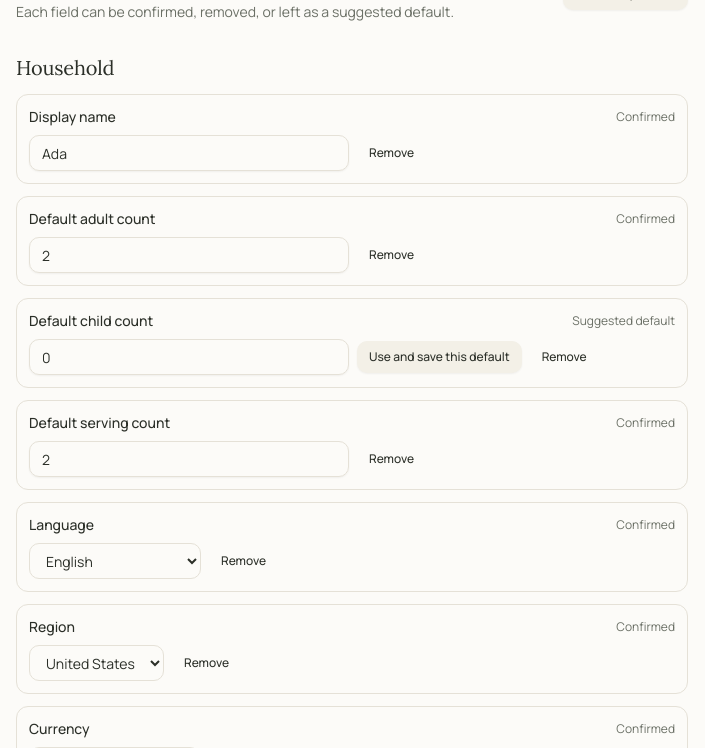
Test: ProfileDataPage › blocks submit when a numeric field is outside the backend's authoritative range
Replace the text in the number field with test id "profile-data-input-defaultServingCount" with "99" at point(189, 459), box [29,441,349,477]
(page scrolled)
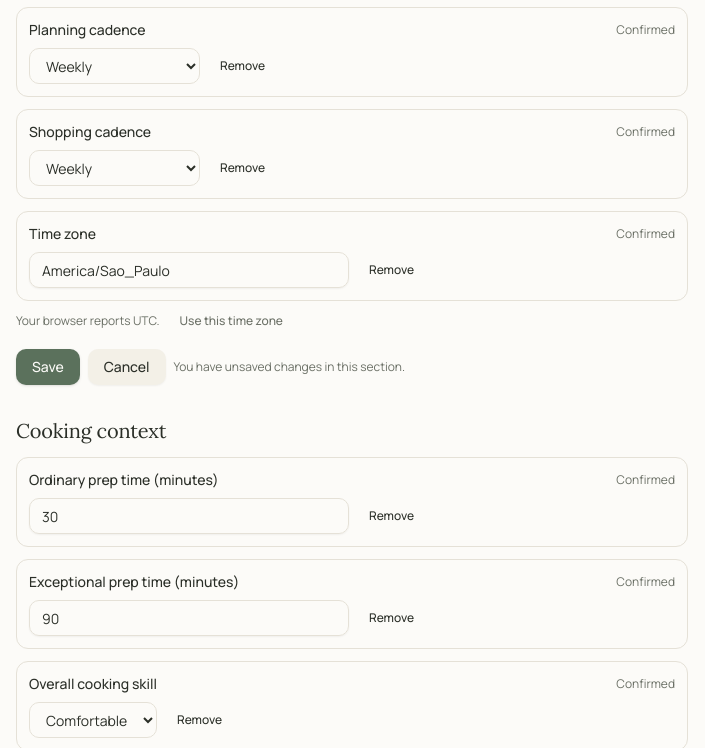
Click the button with test id "profile-data-household-save" at point(48, 367), box [16,349,80,385]
(page scrolled)
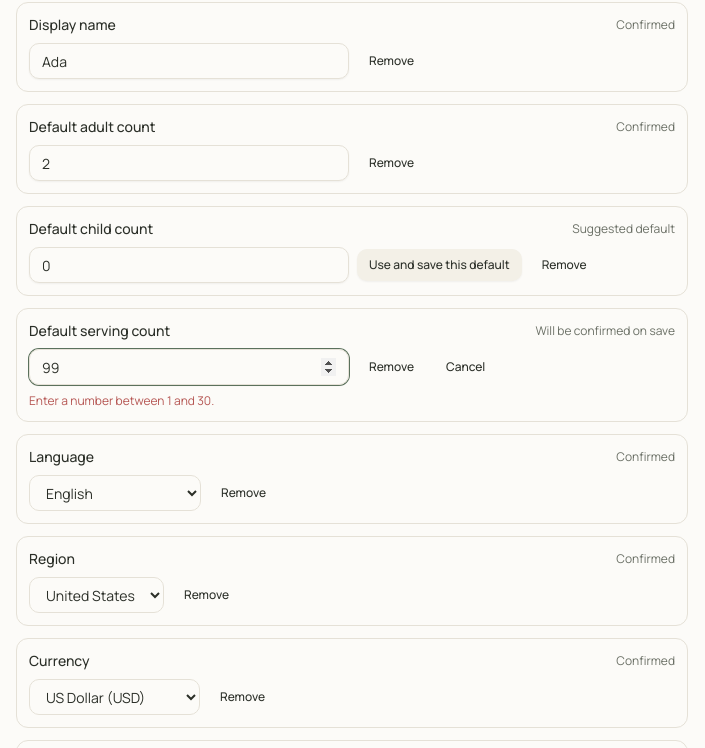
Now the message with test id "profile-data-error-defaultServingCount" shows "between 1 and 30", box [29,392,214,409]
